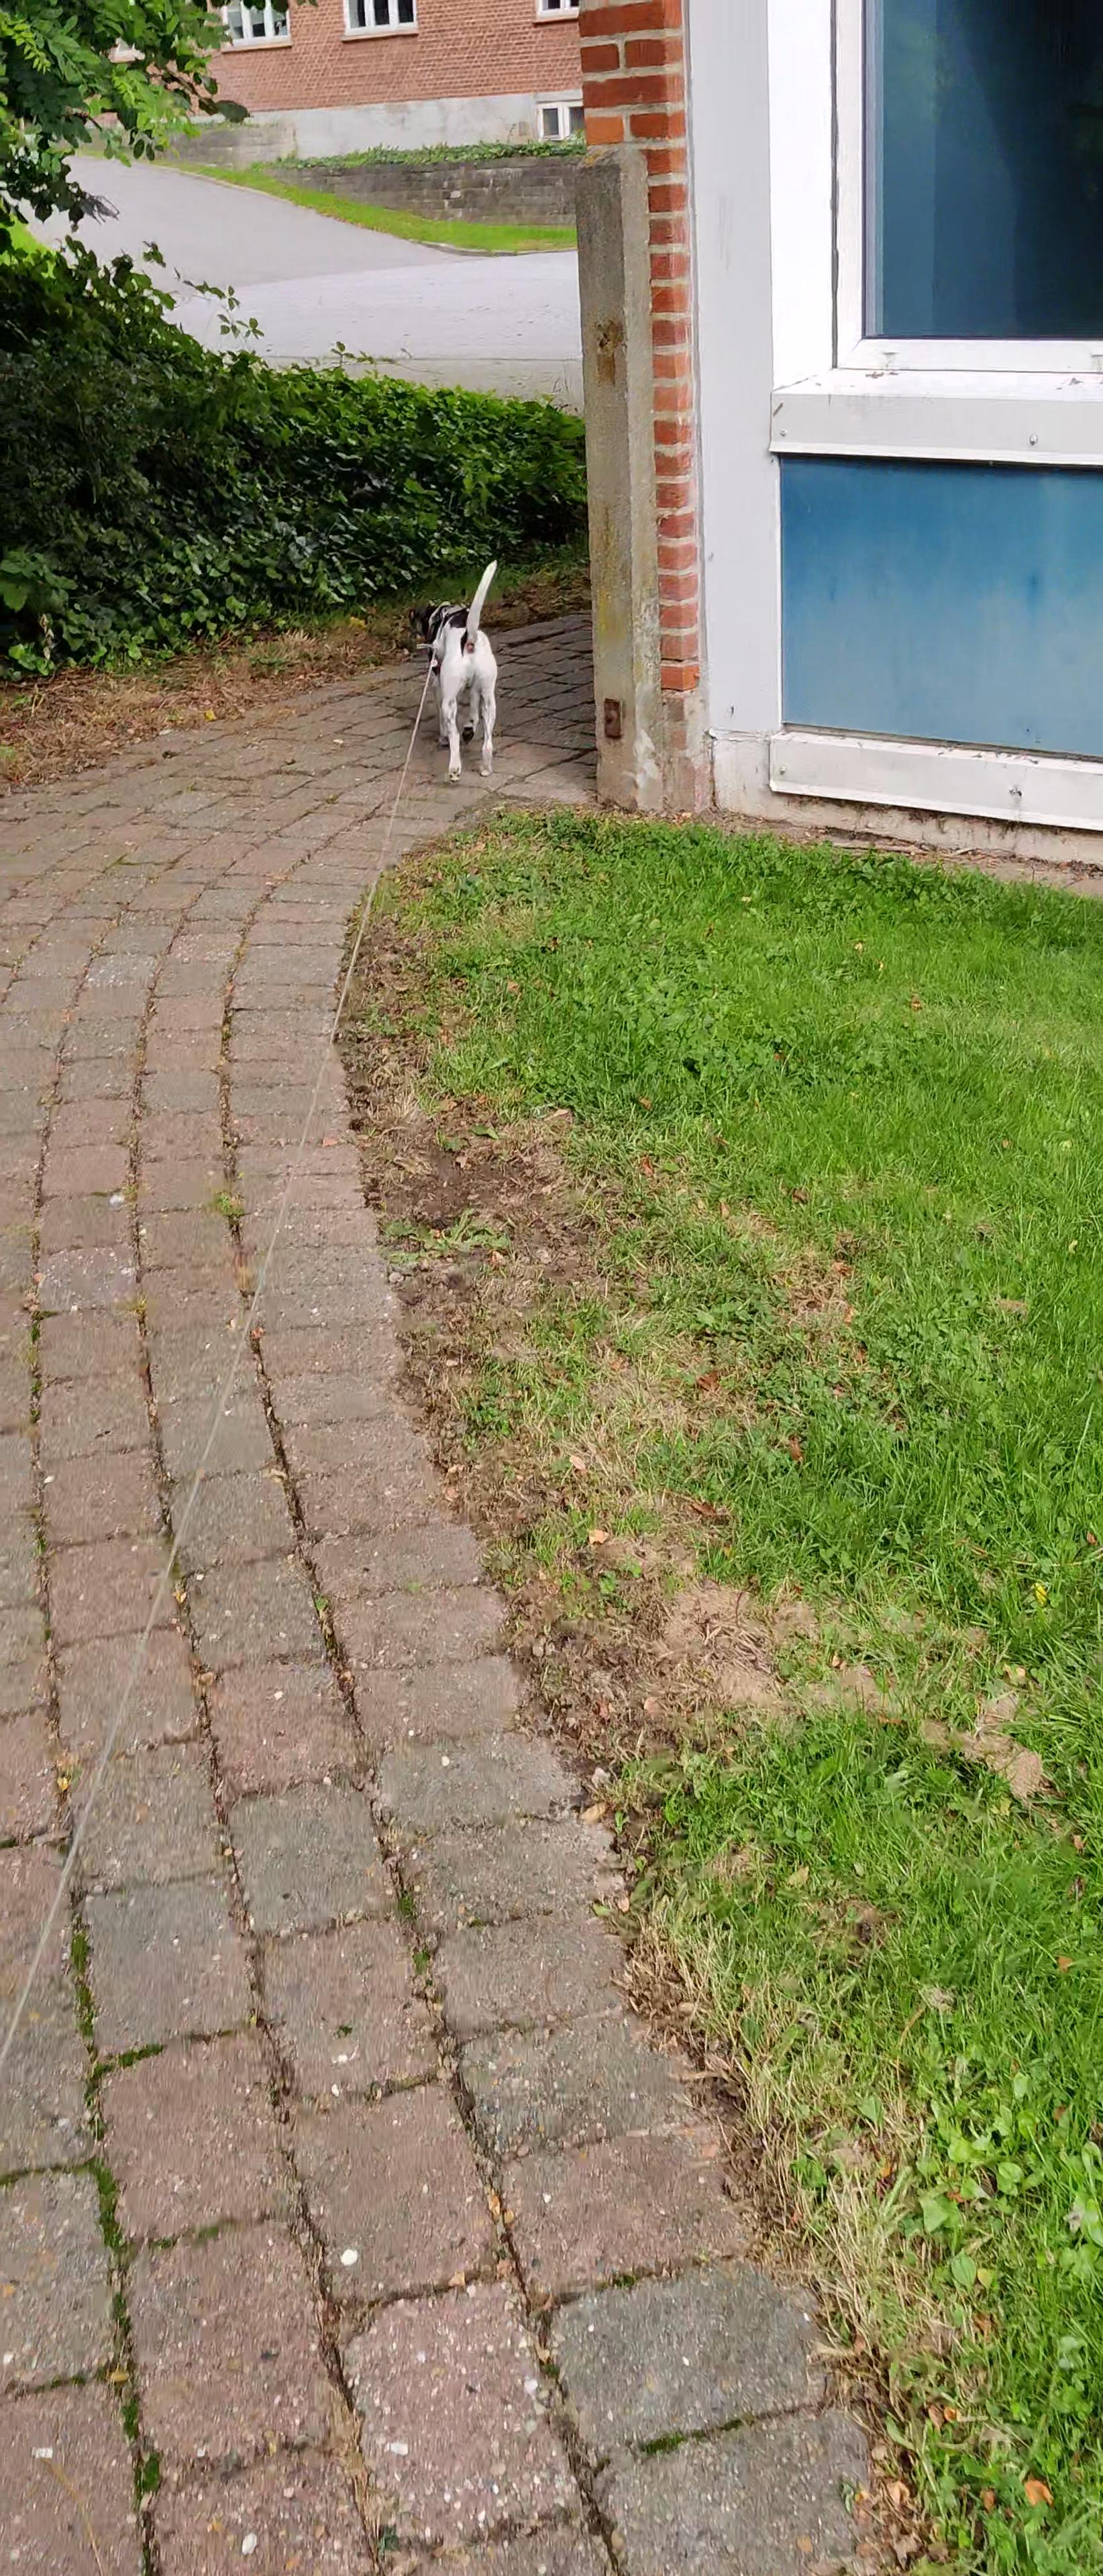Dog: (403, 552, 508, 785)
